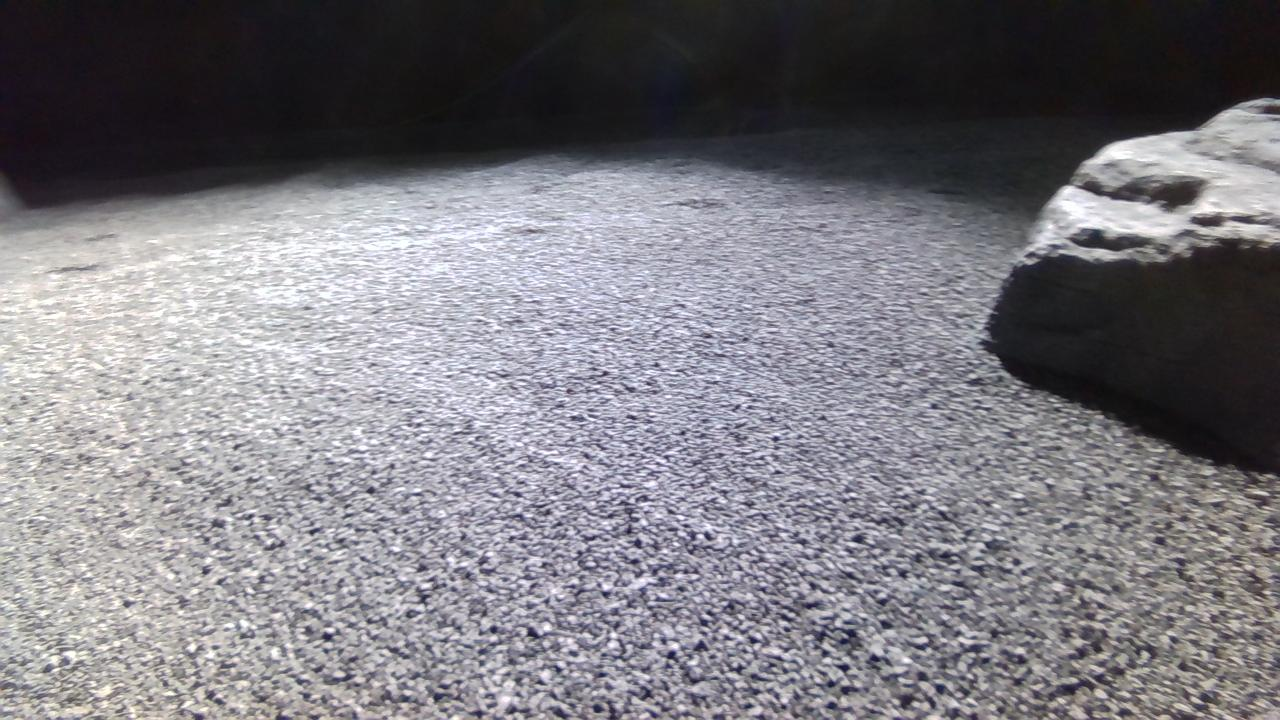rock: (993, 99, 1280, 468), (0, 171, 21, 218)
